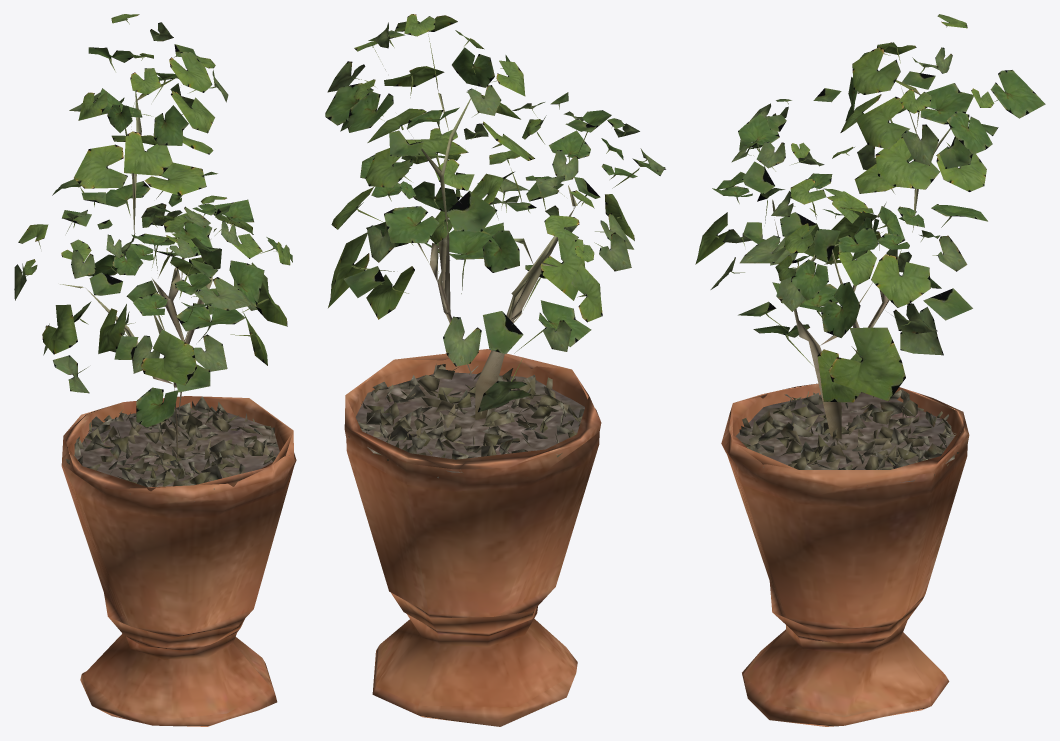
The model's file is plant.glb.
The picture shows the model from 3 angles, left to right: view 1: azimuth 30°, elevation 25°; view 2: azimuth 150°, elevation 25°; view 3: azimuth 270°, elevation 25°; orthographic projection. The views are drawn at different scales.
Visible parts, largest first — view 1: potted_plant_01_pot, potted_plant_01_leaves, potted_plant_01_pebbles, potted_plant_01_stem; view 2: potted_plant_01_pot, potted_plant_01_leaves, potted_plant_01_pebbles, potted_plant_01_stem; view 3: potted_plant_01_pot, potted_plant_01_leaves, potted_plant_01_pebbles, potted_plant_01_stem.
Part boxes in pixels (<box>): potted_plant_01_pot: <box>61,396,296,726</box>; potted_plant_01_leaves: <box>14,14,292,427</box>; potted_plant_01_pebbles: <box>65,396,289,501</box>; potted_plant_01_stem: <box>60,91,212,457</box>; potted_plant_01_pot: <box>344,349,601,726</box>; potted_plant_01_leaves: <box>325,14,665,412</box>; potted_plant_01_pebbles: <box>348,363,584,478</box>; potted_plant_01_stem: <box>415,92,577,419</box>; potted_plant_01_pot: <box>721,383,969,726</box>; potted_plant_01_leaves: <box>695,14,1045,402</box>; potted_plant_01_pebbles: <box>729,389,960,485</box>; potted_plant_01_stem: <box>772,88,950,438</box>.
Bounding box in the file's own units: 0.5775 × 1.33 × 0.6335.
Materials: 2 (2 with a texture image).
